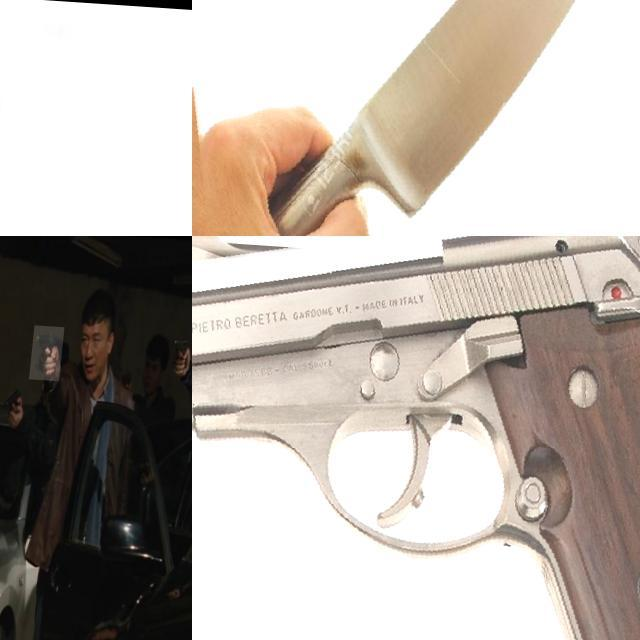-: (192, 0, 640, 236), (0, 35, 192, 236)
gun-knife-thesis - v11 Yolov5 augmented: (192, 236, 640, 640), (34, 322, 68, 376), (6, 382, 31, 427), (171, 329, 192, 370), (0, 362, 10, 404)
